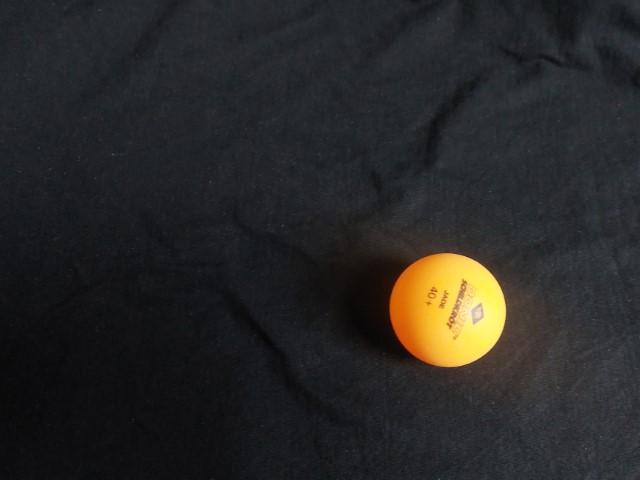oball: (383, 246, 511, 373)
